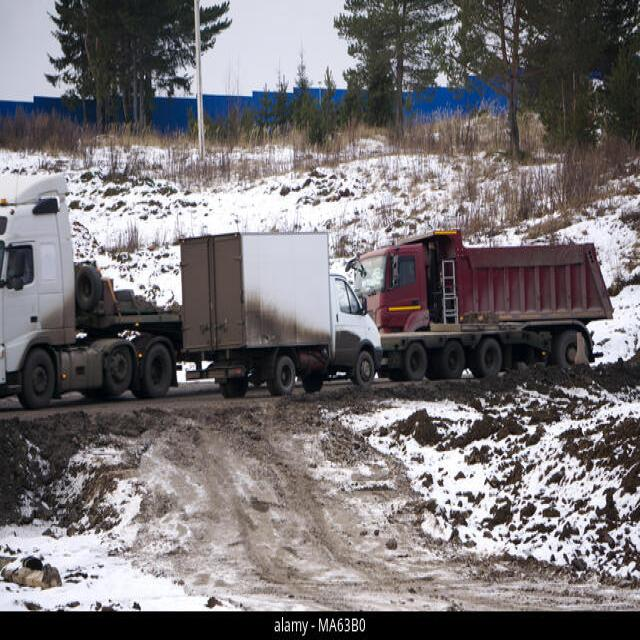truck: (0, 175, 182, 408), (355, 231, 612, 379), (182, 233, 380, 397)
